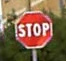stop: (12, 9, 54, 49)
